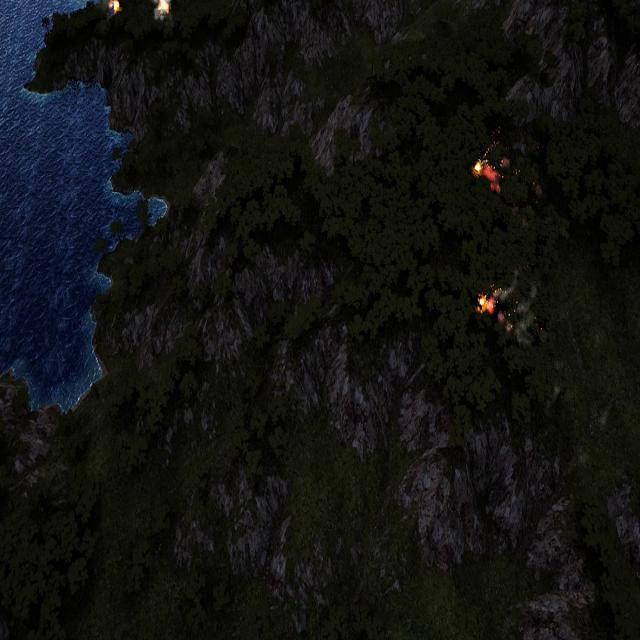fire: (472, 156, 500, 192), (477, 291, 503, 328), (156, 1, 173, 16), (107, 0, 121, 15)
smoke: (498, 282, 538, 348), (152, 0, 172, 22)
